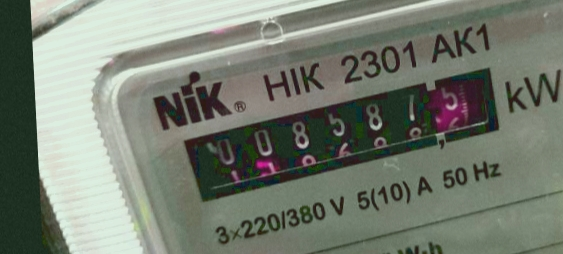0: (249, 121, 277, 156), (212, 131, 239, 164)
5: (324, 104, 349, 136), (437, 76, 461, 108)
6: (444, 111, 463, 129)
7: (399, 87, 422, 122)
8: (288, 115, 314, 148), (361, 96, 386, 130)
screen: (172, 62, 525, 202)
